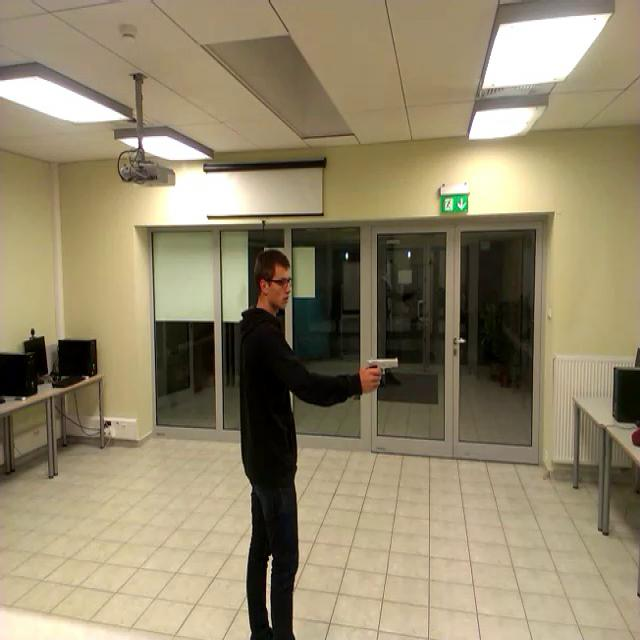handgun: (358, 347, 412, 398)
